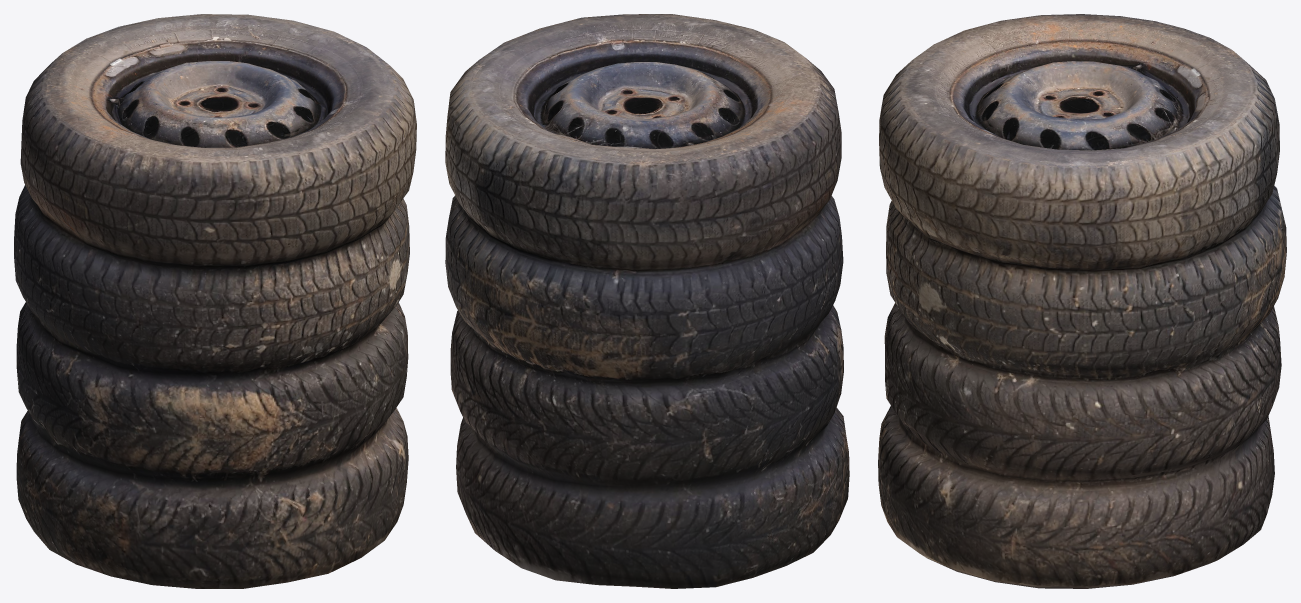
Rendered from old_dirty_stacked_tires_pbr_textures_free.glb.
3 views of the same model, side by side, from view 1: azimuth 30°, elevation 25°; view 2: azimuth 150°, elevation 25°; view 3: azimuth 270°, elevation 25° (orthographic).
Parts seen in each view (by area): view 1: Retopo_model to retopo; view 2: Retopo_model to retopo; view 3: Retopo_model to retopo.
Part boxes in pixels (<box>): Retopo_model to retopo: <box>14,14,416,588</box>; Retopo_model to retopo: <box>445,14,849,588</box>; Retopo_model to retopo: <box>878,14,1286,588</box>.
Bounding box in the file's own units: 1.26 × 1.47 × 1.26.
Materials: 1 (1 with a texture image).
